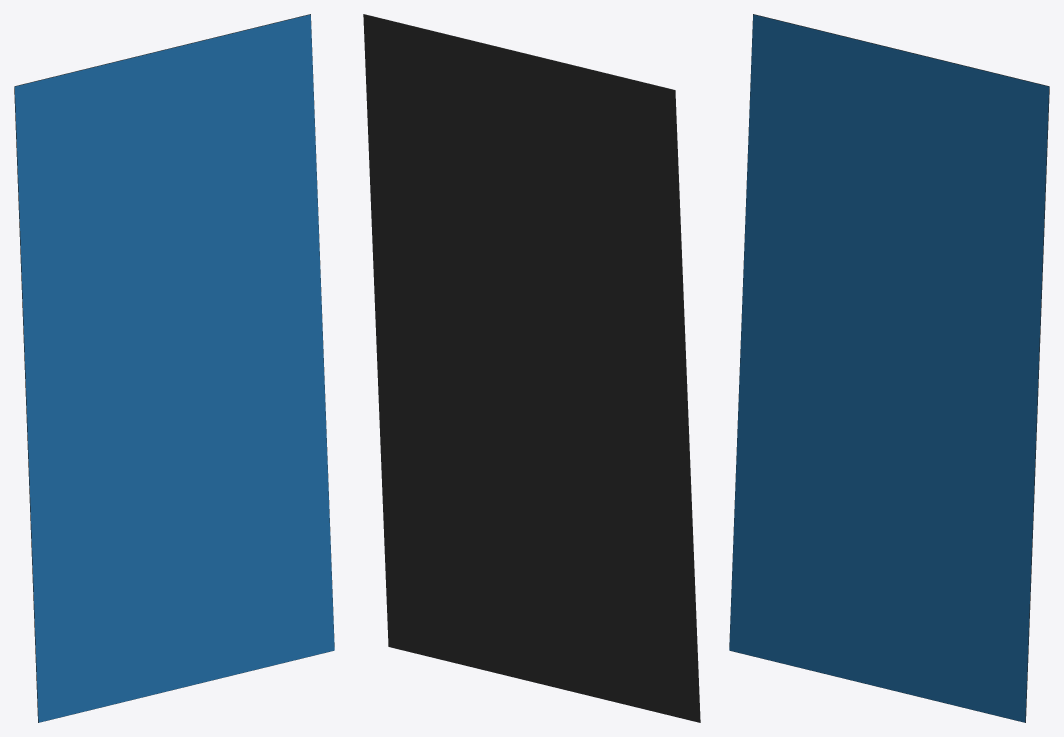
The picture shows the model from 3 angles, left to right: view 1: azimuth 30°, elevation 25°; view 2: azimuth 150°, elevation 25°; view 3: azimuth 330°, elevation 25°; orthographic projection. The views are drawn at different scales.
Visible parts, largest first — view 1: xc_mirror, acrylic-mirror; view 2: acrylic-mirror; view 3: xc_mirror, acrylic-mirror.
Boxes of the visible parts, left/top/right/bottom form: xc_mirror: left=14, top=14, right=334, bottom=722; acrylic-mirror: left=14, top=14, right=334, bottom=722; acrylic-mirror: left=363, top=14, right=700, bottom=722; xc_mirror: left=729, top=14, right=1049, bottom=722; acrylic-mirror: left=729, top=14, right=1049, bottom=722.
Size of the model in its own units: 1.22 by 2.43 by 0.1725.
